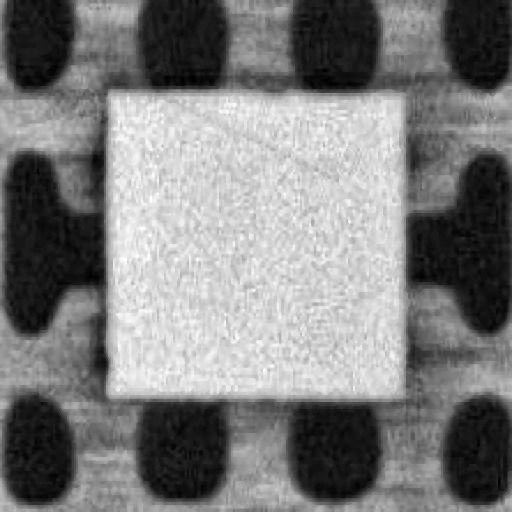DIE_CRACK: (251, 64, 498, 118)
